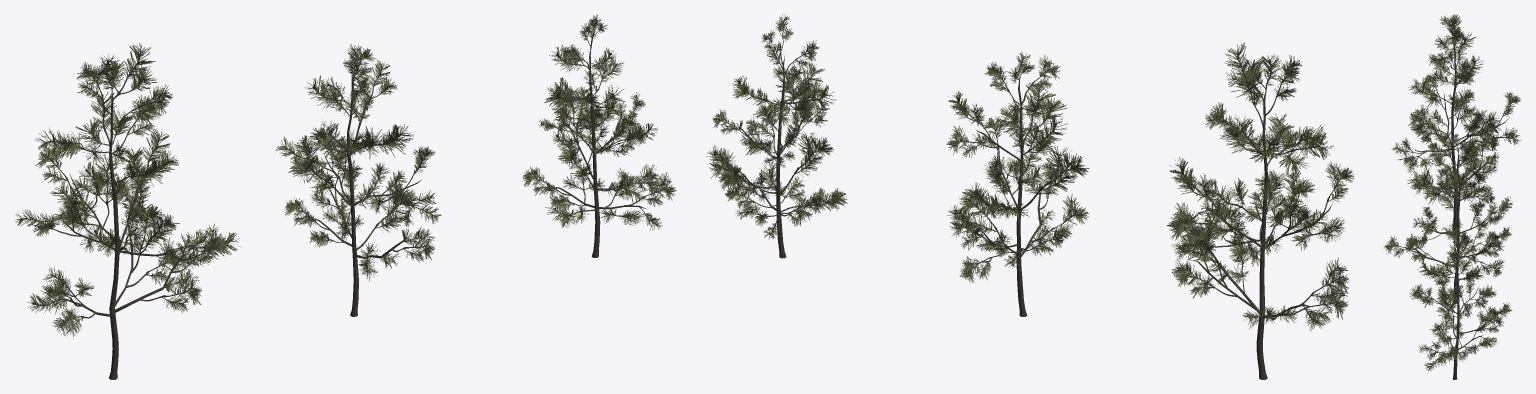
Rendered from pine.glb.
3 renders of one model, left to right at view 1: azimuth 30°, elevation 25°; view 2: azimuth 150°, elevation 25°; view 3: azimuth 270°, elevation 25°, orthographic. The views are drawn at different scales.
Visible parts, largest first — view 1: pine_sapling_small_a, pine_sapling_small_b, pine_sapling_small_c; view 2: pine_sapling_small_a, pine_sapling_small_b, pine_sapling_small_c; view 3: pine_sapling_small_a, pine_sapling_small_b, pine_sapling_small_c.
Boxes of the visible parts, x1,y1,x2,y2 form: pine_sapling_small_a: (15,43,241,379); pine_sapling_small_b: (276,44,441,316); pine_sapling_small_c: (522,14,676,257); pine_sapling_small_a: (1167,42,1354,379); pine_sapling_small_b: (946,51,1088,316); pine_sapling_small_c: (707,14,847,258); pine_sapling_small_a: (1391,14,1520,229); pine_sapling_small_b: (1384,133,1512,304); pine_sapling_small_c: (1409,222,1512,379).
Bounding box in the file's own units: 2.64 × 1.3 × 0.7703.
2 materials, 2 textured.
